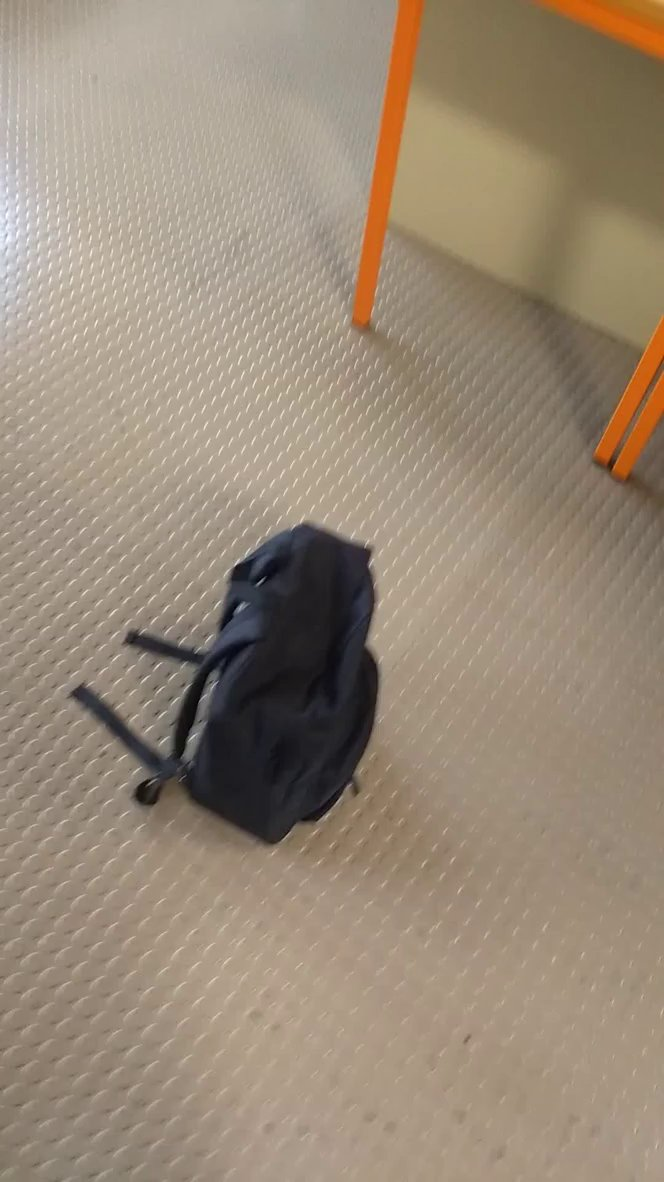bag: (56, 512, 430, 859)
